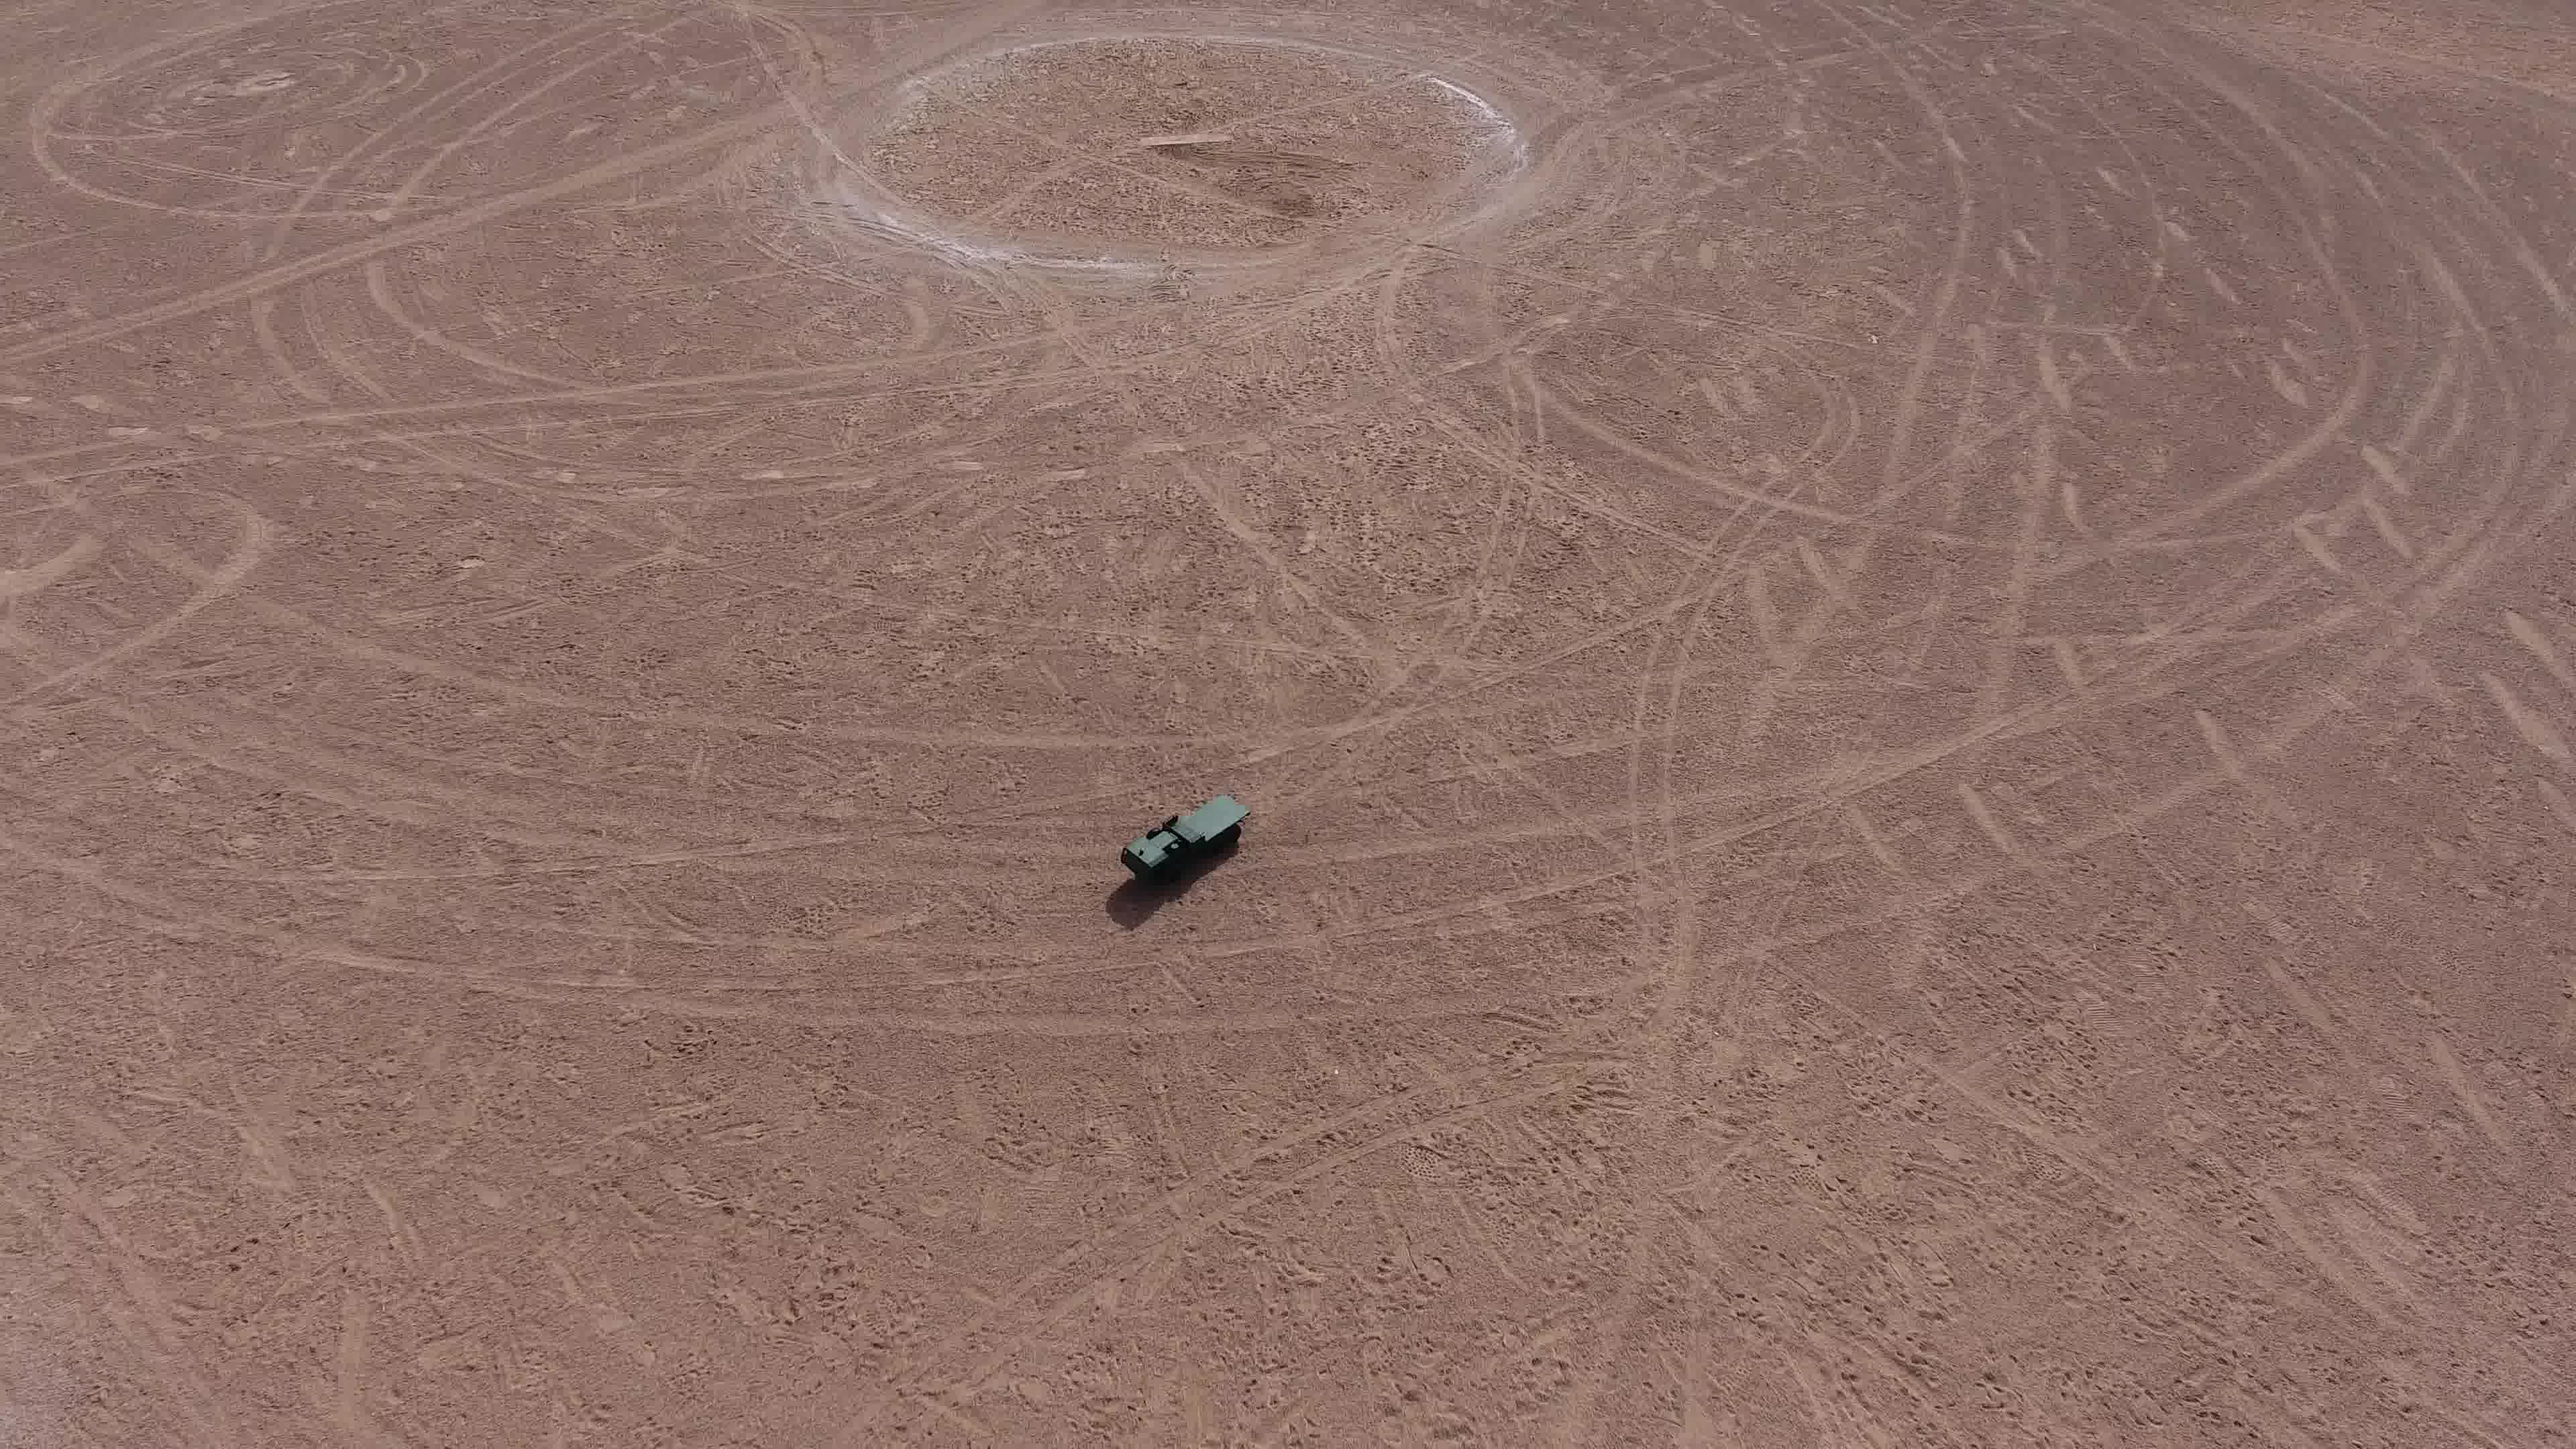transporter9: (1116, 787, 1256, 892)
